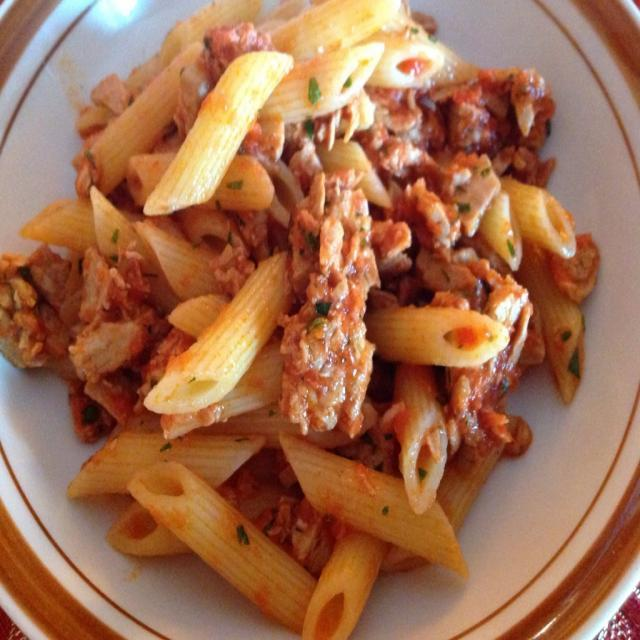Pasta al ragu: (37, 12, 577, 574)
